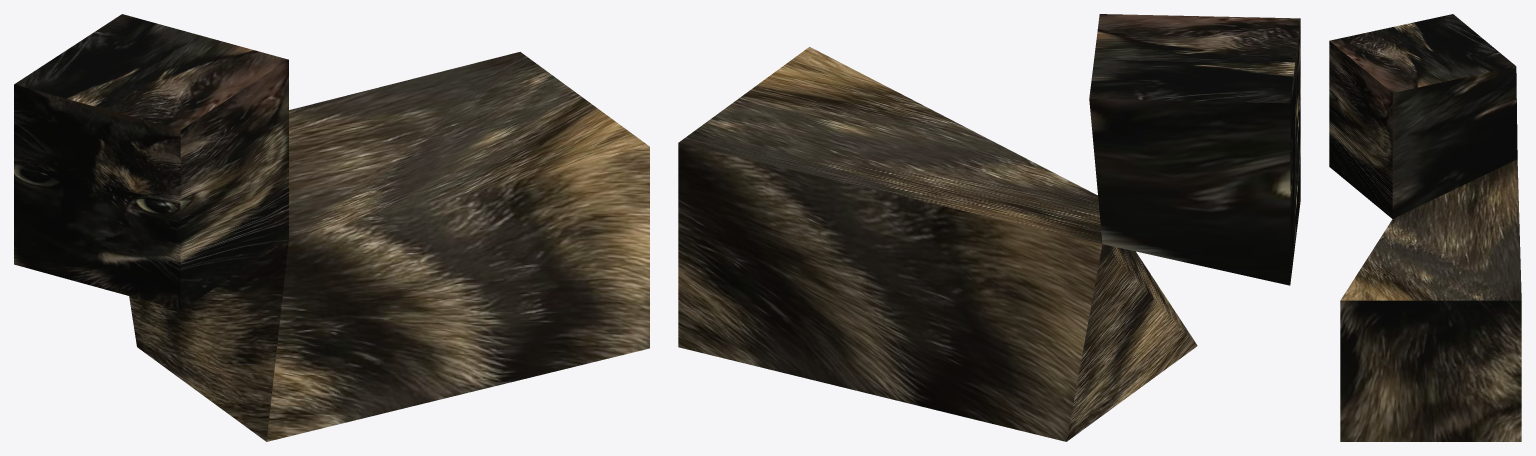
The model's file is bad-cat.glb.
3 views of the same model, side by side, from view 1: azimuth 30°, elevation 25°; view 2: azimuth 150°, elevation 25°; view 3: azimuth 270°, elevation 25° (orthographic). The views are drawn at different scales.
Parts seen in each view (by area): view 1: BadCat; view 2: BadCat; view 3: BadCat.
Part boxes in pixels (x1=…): BadCat: x1=14, y1=14, x2=649, y2=441; BadCat: x1=678, y1=14, x2=1300, y2=441; BadCat: x1=1329, y1=14, x2=1521, y2=441.
Size of the model in its own units: 4.95 by 2.9 by 2.12.
Materials: 1 (1 with a texture image).
